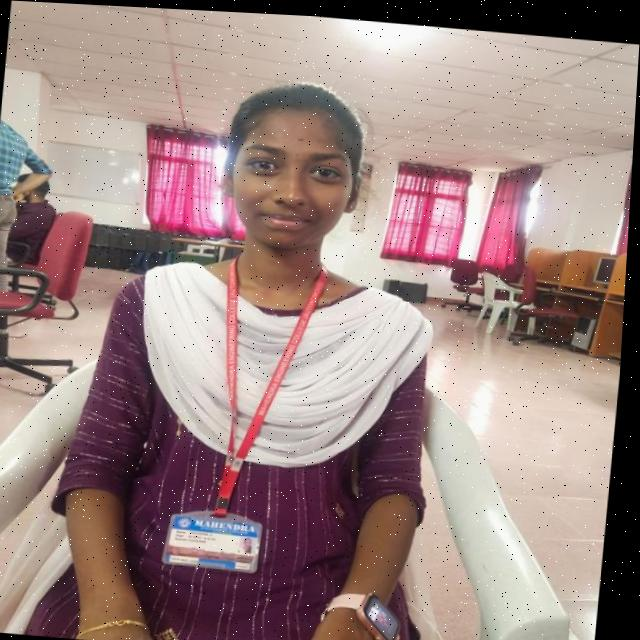id_card: (160, 242, 323, 581)
